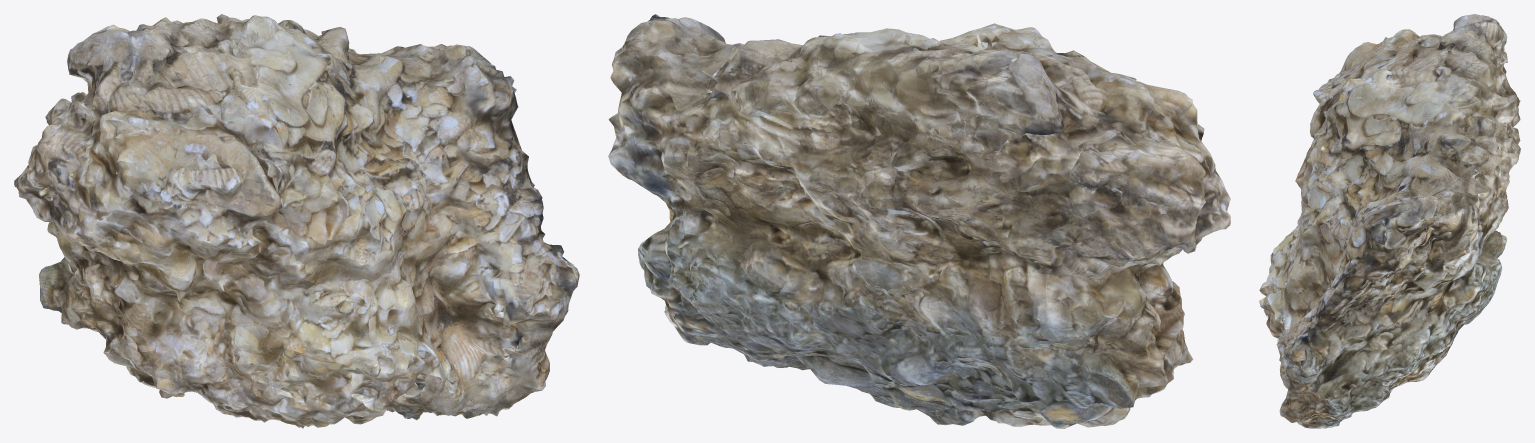
Rendered from coquina.glb.
The picture shows the model from 3 angles, left to right: view 1: azimuth 30°, elevation 25°; view 2: azimuth 150°, elevation 25°; view 3: azimuth 270°, elevation 25°; orthographic projection. The views are drawn at different scales.
Parts seen in each view (by area): view 1: Object_2; view 2: Object_2; view 3: Object_2.
Boxes of the visible parts, left/top/right/bottom form: Object_2: left=14, top=14, right=579, bottom=428; Object_2: left=608, top=14, right=1230, bottom=428; Object_2: left=1259, top=14, right=1520, bottom=428.
Size of the model in its own units: 0.12 by 0.0921 by 0.0721.
Materials: 1 (1 with a texture image).
